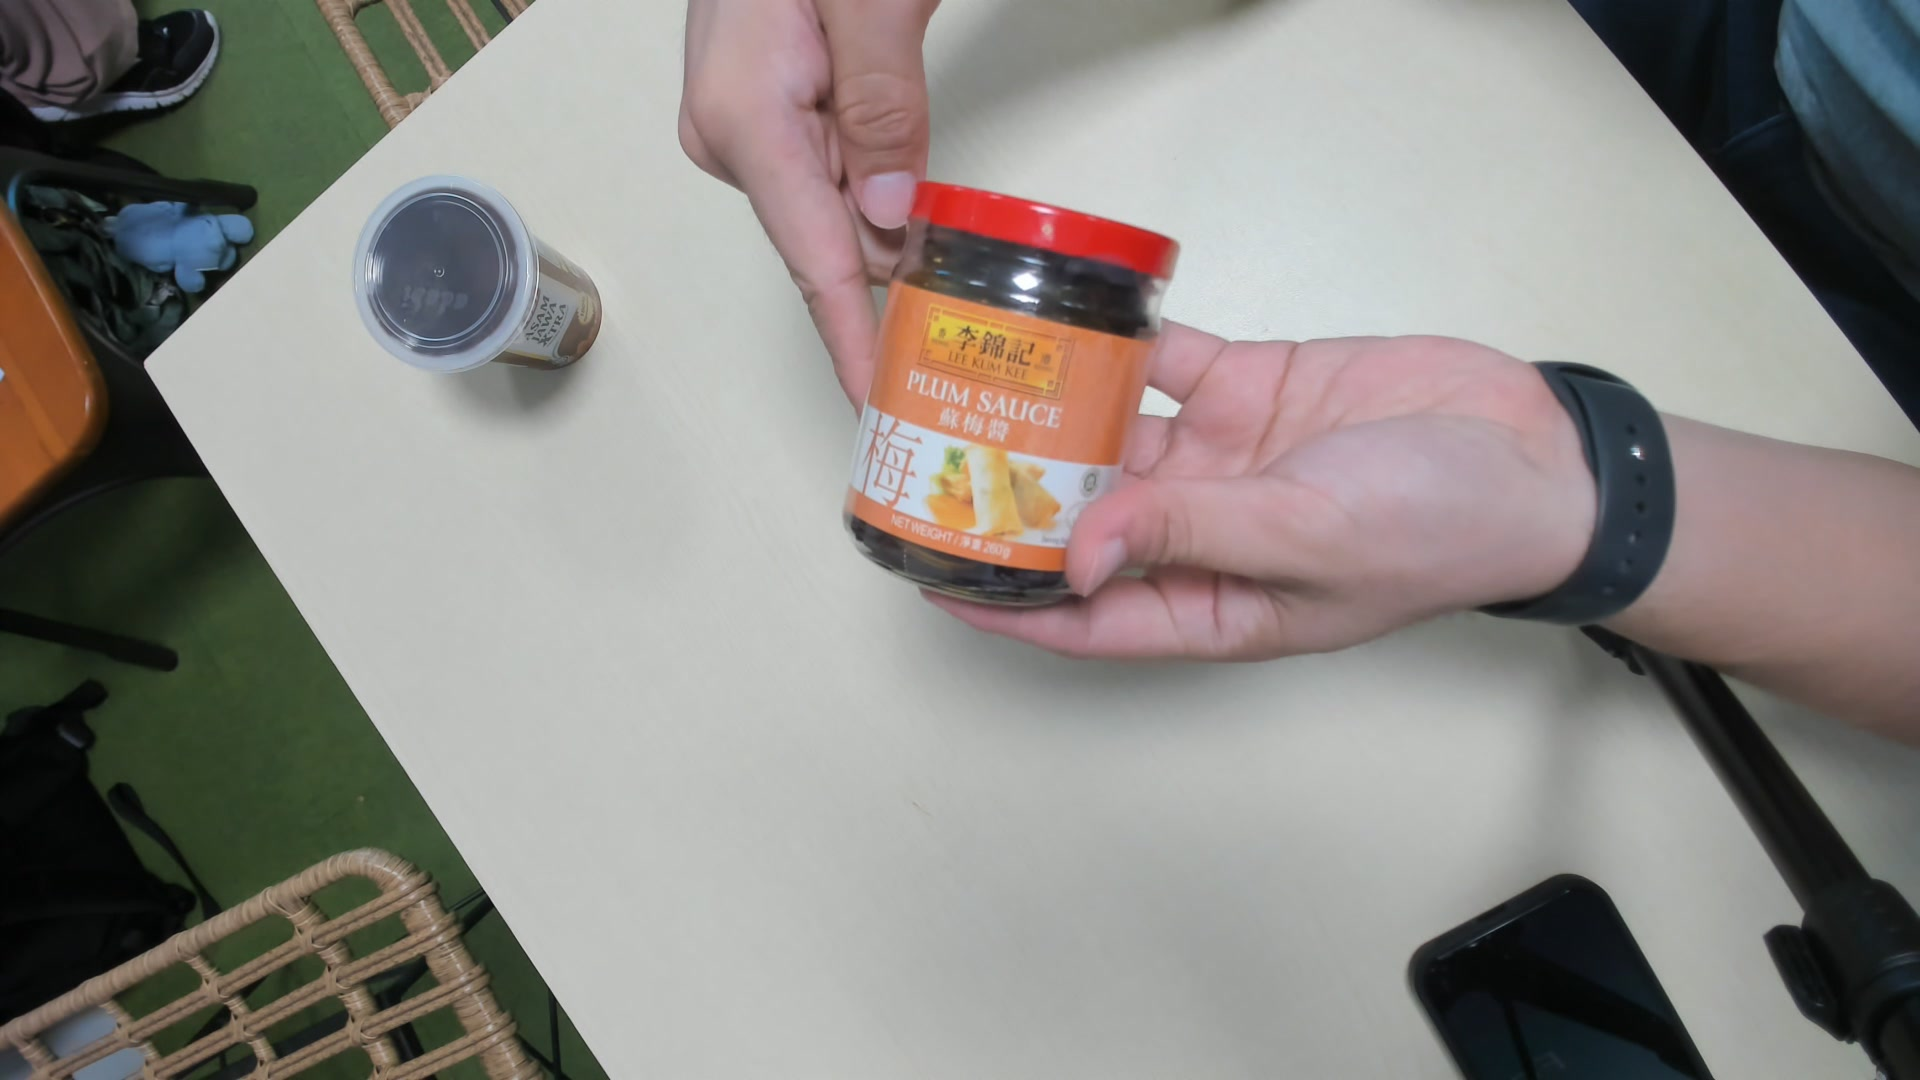OtherSauceDressing_200-299g_Halal_NonHealthy: (847, 171, 1182, 615)
